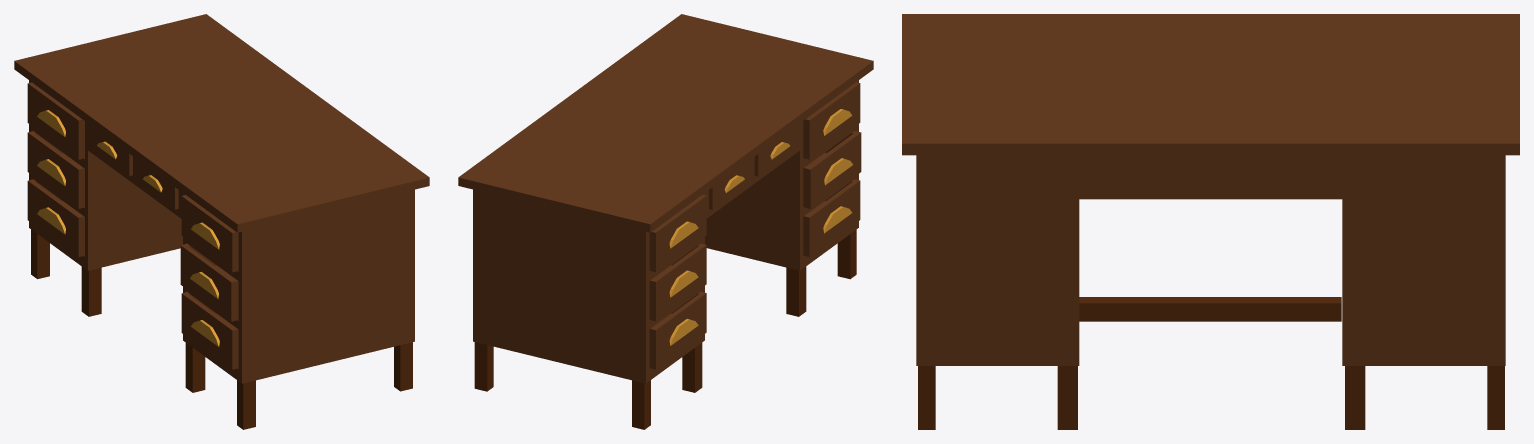
The model's file is desk.fbx.
3 renders of one model, left to right at view 1: azimuth 30°, elevation 25°; view 2: azimuth 150°, elevation 25°; view 3: azimuth 270°, elevation 25°, orthographic. The views are drawn at different scales.
Parts seen in each view (by area): view 1: desk, Cube.018, Cube.015, Cube.017, Cube.016, Cube.013, Cube.019, Cube.027, Cube.020; view 2: desk, Cube.018, Cube.016, Cube.015, Cube.017, Cube.019, Cube.013, Cube.027, Cube.020; view 3: desk.
Part boxes in pixels (x1,y1,x2,y2): desk: [14, 14, 429, 429]; Cube.018: [180, 243, 238, 321]; Cube.015: [27, 131, 84, 208]; Cube.017: [181, 292, 238, 369]; Cube.016: [27, 179, 84, 257]; Cube.013: [27, 82, 84, 159]; Cube.019: [181, 195, 238, 272]; Cube.027: [88, 124, 132, 176]; Cube.020: [134, 157, 178, 209]; desk: [458, 14, 873, 429]; Cube.018: [803, 131, 861, 208]; Cube.016: [649, 291, 706, 369]; Cube.015: [649, 243, 706, 321]; Cube.017: [803, 179, 860, 256]; Cube.019: [803, 82, 860, 159]; Cube.013: [649, 194, 706, 272]; Cube.027: [709, 158, 753, 209]; Cube.020: [754, 124, 798, 176]; desk: [902, 14, 1519, 429].
Size of the model in its own units: 78.2 by 82.58 by 157.
